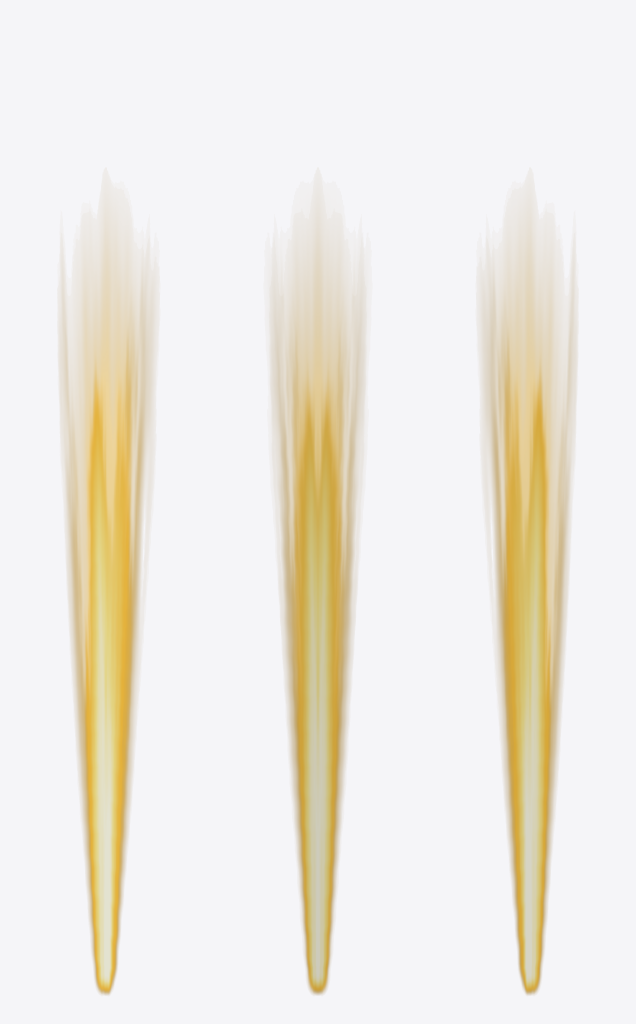
File: trail_flame_gold.glb
3 views of the same model, side by side, from view 1: azimuth 30°, elevation 25°; view 2: azimuth 150°, elevation 25°; view 3: azimuth 270°, elevation 25° (orthographic).
Parts seen in each view (by area): view 1: flame; view 2: flame; view 3: flame.
Boxes of the visible parts, box(x1,y1,x2,y2) form: flame: box(61, 224, 152, 994); flame: box(272, 224, 363, 994); flame: box(483, 224, 574, 994).
Bounding box in the file's own units: 11.8 × 58 × 10.22.
1 material, 1 textured.
